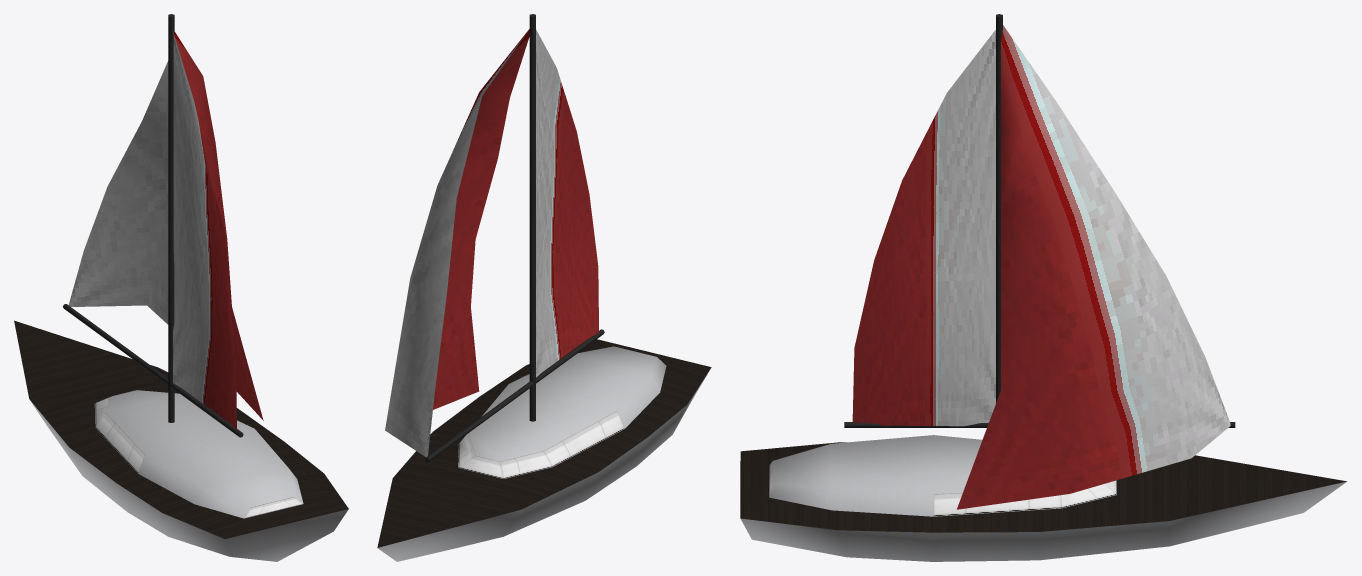
The model's file is p6_vista_boat_sail_03_lod0.glb.
3 renders of one model, left to right at view 1: azimuth 30°, elevation 25°; view 2: azimuth 150°, elevation 25°; view 3: azimuth 270°, elevation 25°, orthographic. The views are drawn at different scales.
Parts seen in each view (by area): view 1: surf3, surf0, surf2, surf4, surf1; view 2: surf3, surf0, surf2, surf4, surf1; view 3: surf3, surf0, surf2, surf1, surf4.
Part boxes in pixels (x1,y1,x2,y2): surf3: [68, 30, 263, 429]; surf0: [31, 390, 348, 561]; surf2: [14, 320, 348, 538]; surf4: [63, 14, 243, 437]; surf1: [94, 396, 303, 518]; surf3: [385, 26, 598, 456]; surf0: [377, 346, 709, 561]; surf2: [377, 339, 711, 547]; surf4: [424, 14, 604, 462]; surf1: [458, 398, 624, 478]; surf3: [852, 25, 1230, 509]; surf0: [741, 435, 1346, 561]; surf2: [740, 442, 1346, 532]; surf1: [769, 461, 1116, 516]; surf4: [844, 14, 1235, 427].
Size of the model in its own units: 160 by 437 by 450.
